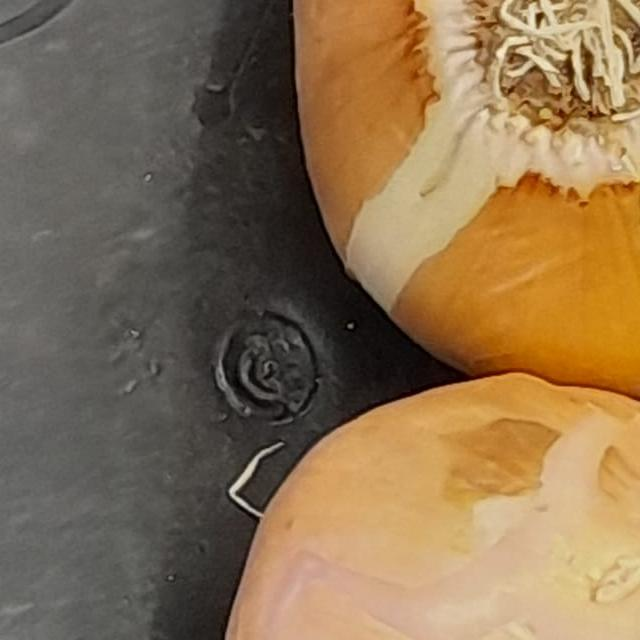onion: (163, 340, 640, 640), (263, 0, 640, 376)
